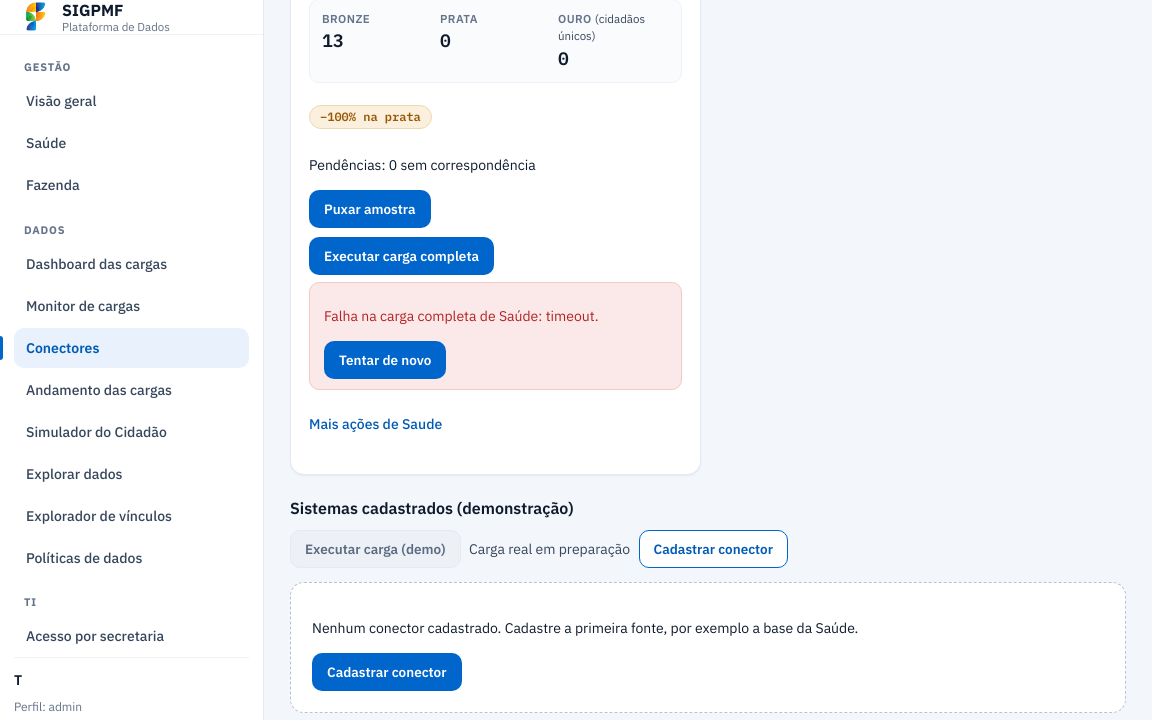
Scenario: carga completa (CC1-CC6) › UX: falha da carga -> "Tentar de novo" abre a confirmação (sem POST)
The width and height of the screenshot is (1152, 720).
(page scrolled)
Step 1. Click the button "Tentar de novo" → coordinates (385, 360), box 324,341 -> 446,379
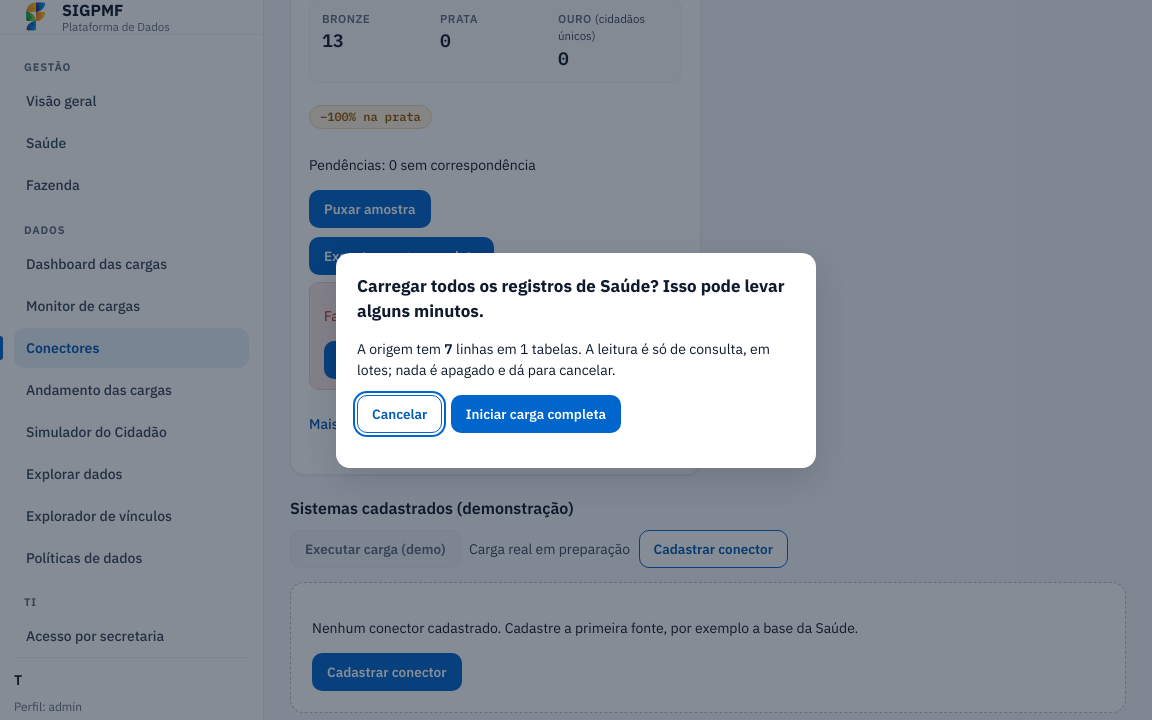
Now the dialog is shown, box 336,252 -> 816,468
